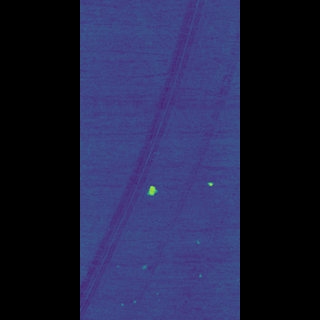Loch: (117, 0, 185, 318), (144, 15, 200, 305), (152, 183, 160, 197), (183, 180, 188, 187)
